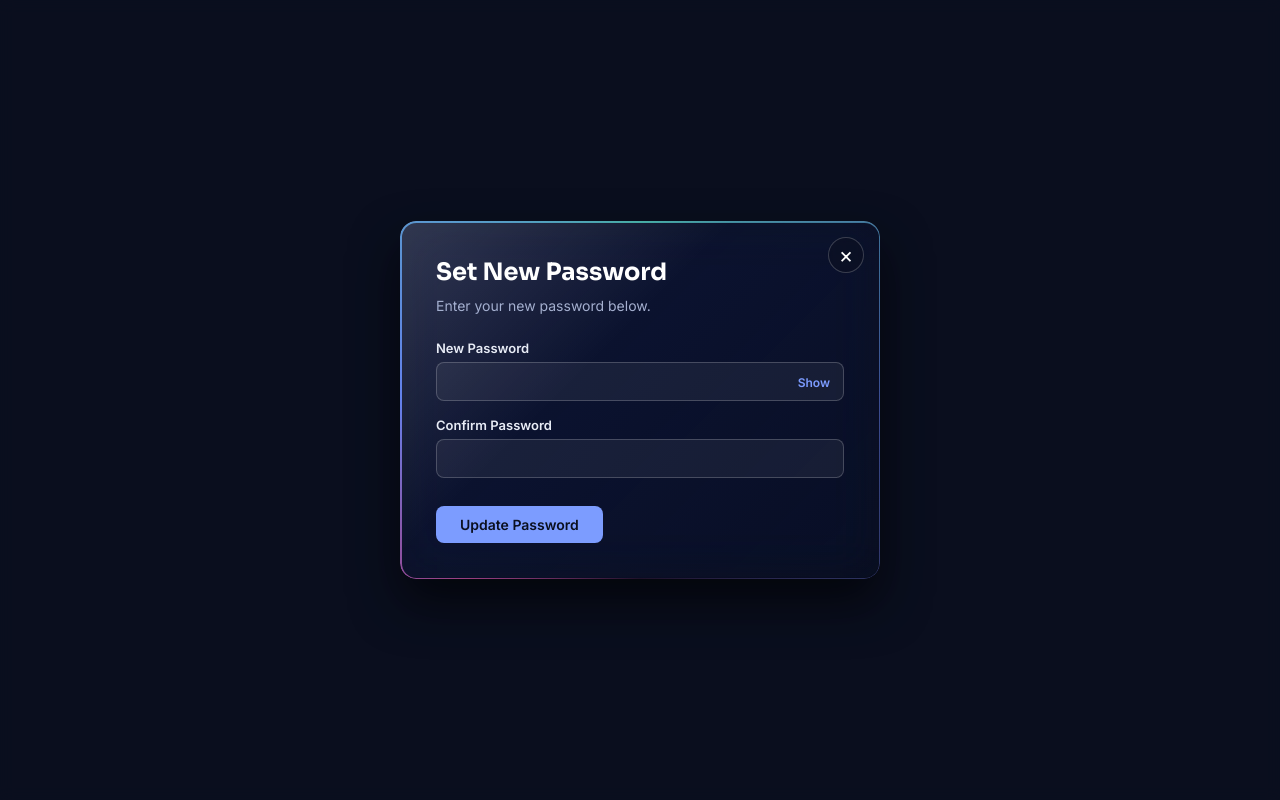
Test: SignInModal › validates matching passwords before updating
Step 1. Type "password123" into the password field labelled "New Password" → (640, 382), box [436,362,844,401]
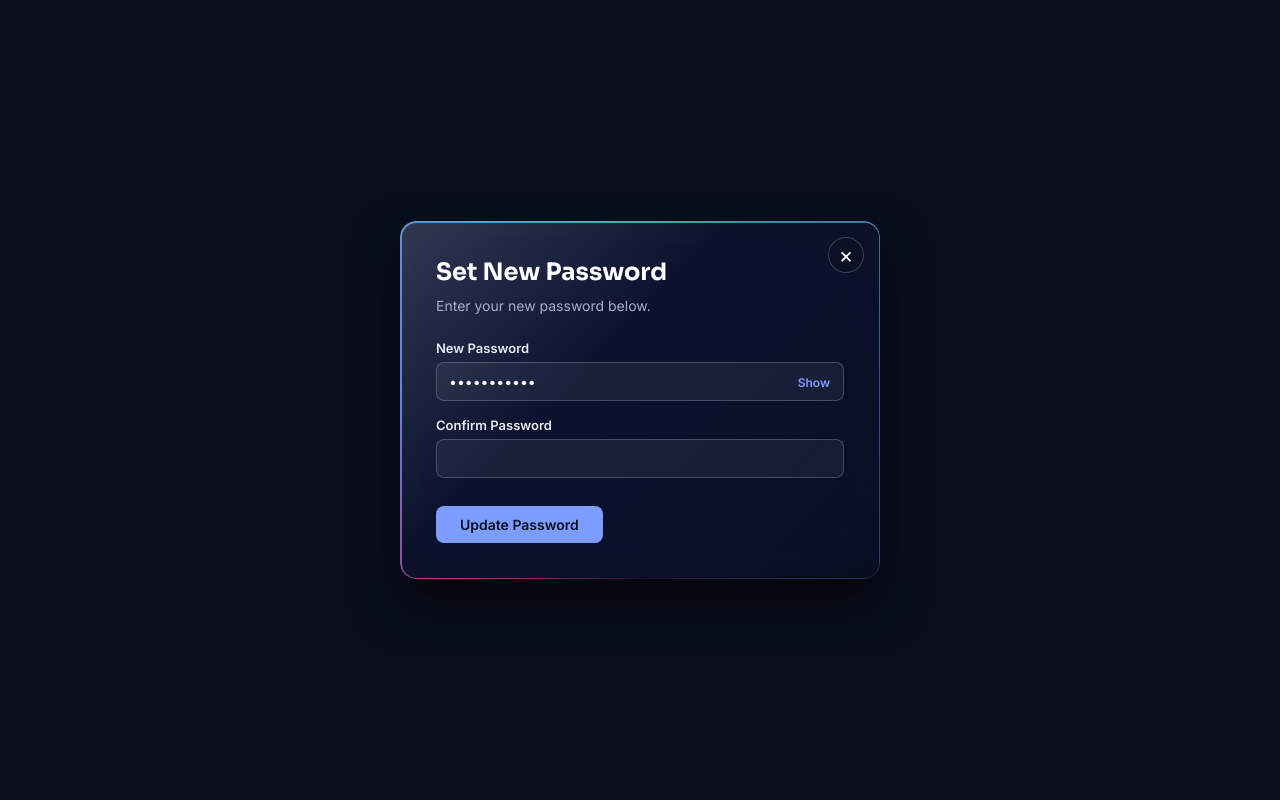
Step 2. Type "password124" into the password field labelled "Confirm Password" → (640, 458), box [436,439,844,478]
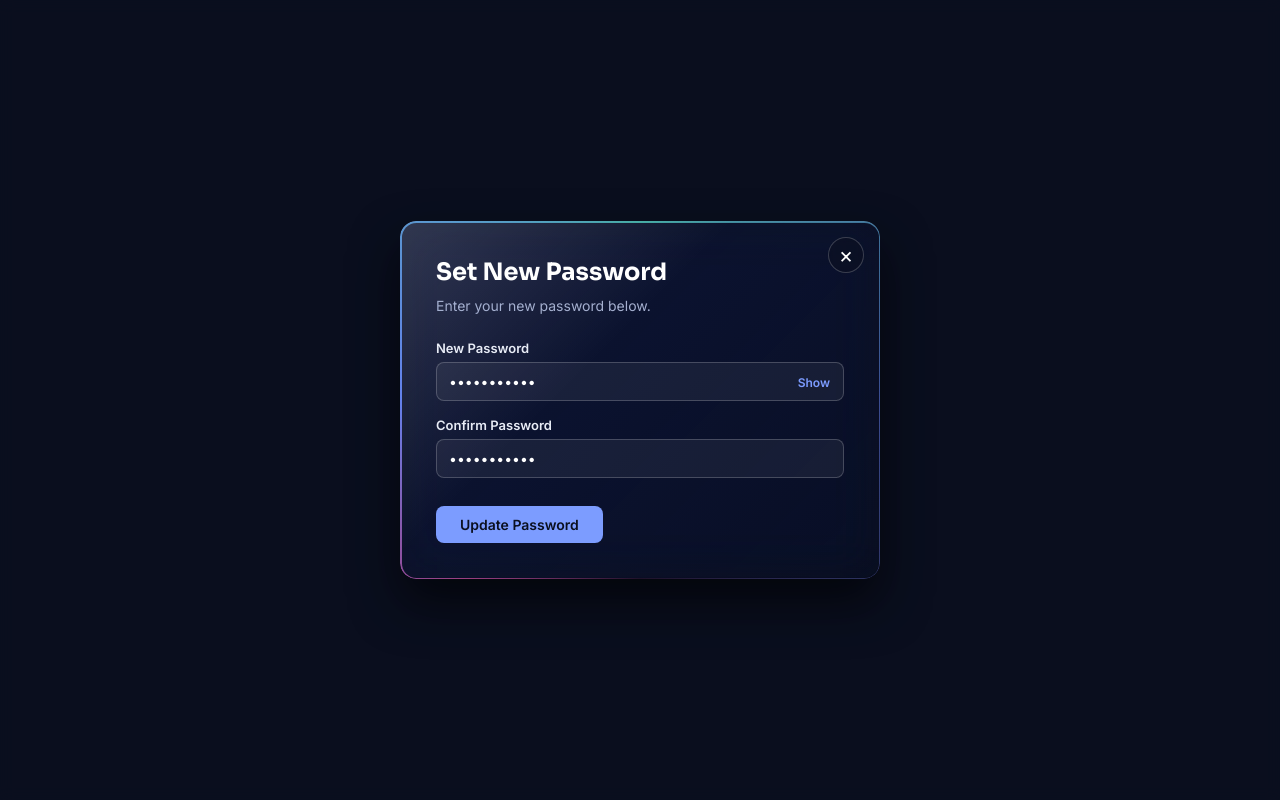
Step 3. Click the button "Update Password" → (519, 524), box [436,506,603,543]
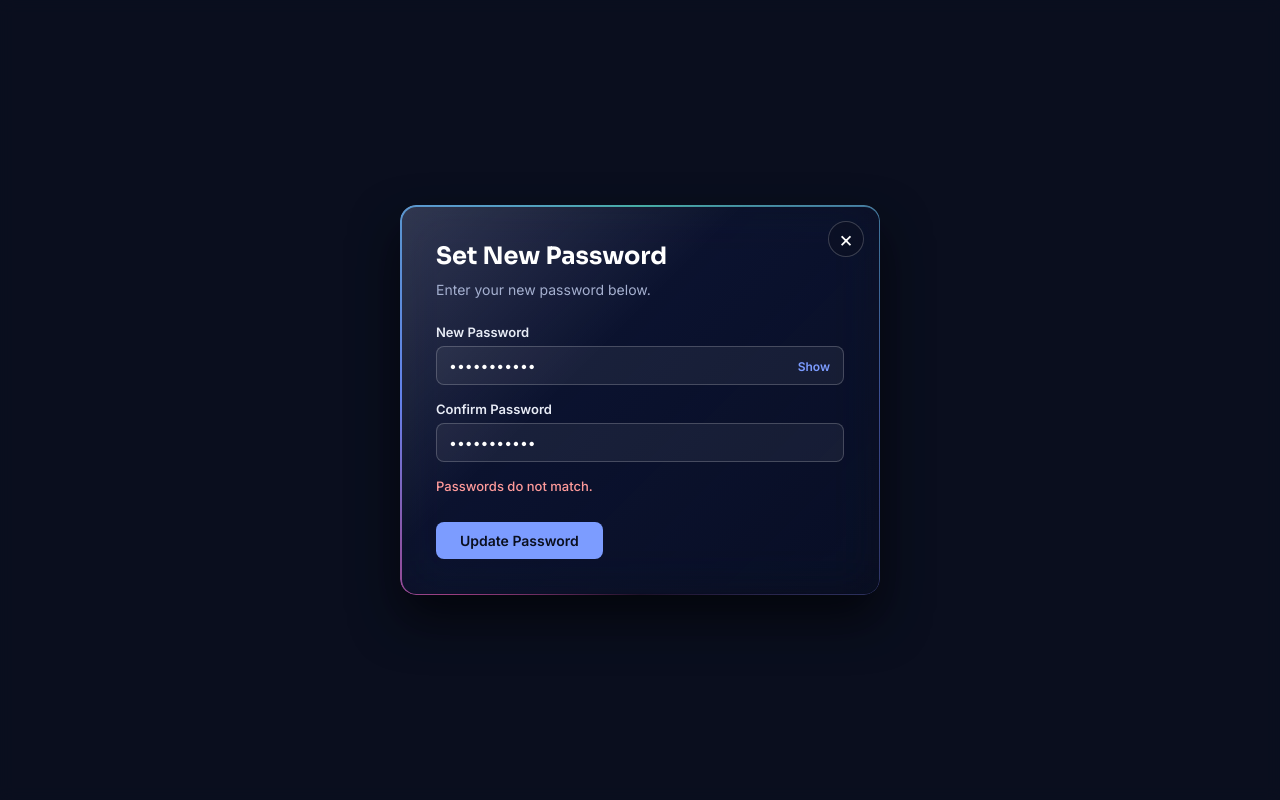
Expected: the text "Passwords do not match." is shown, [436,478,593,494]
